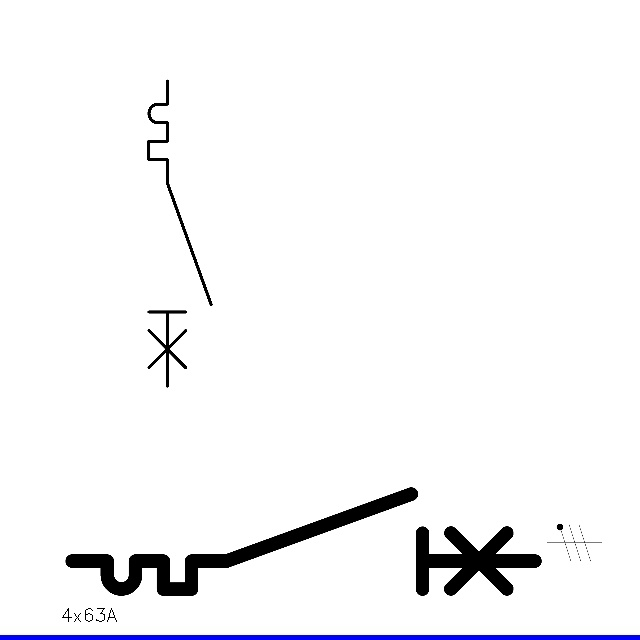interruptor_termomagnetico: (60, 482, 547, 601), (141, 73, 219, 394)
